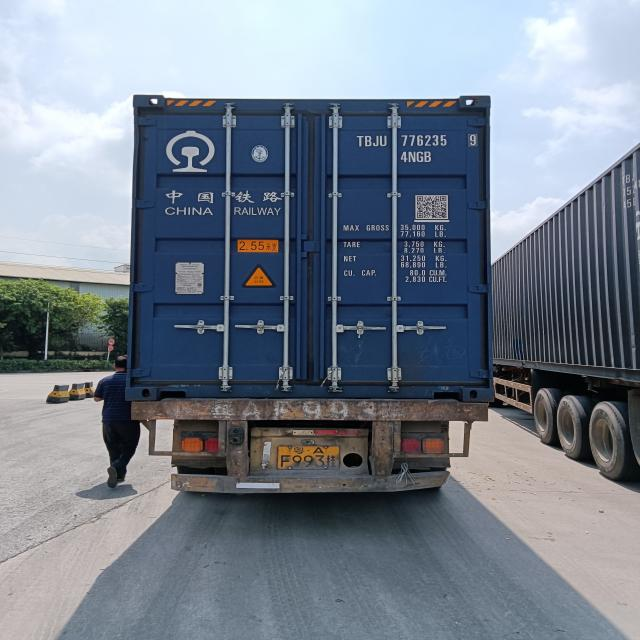seal: (356, 324, 363, 340)
